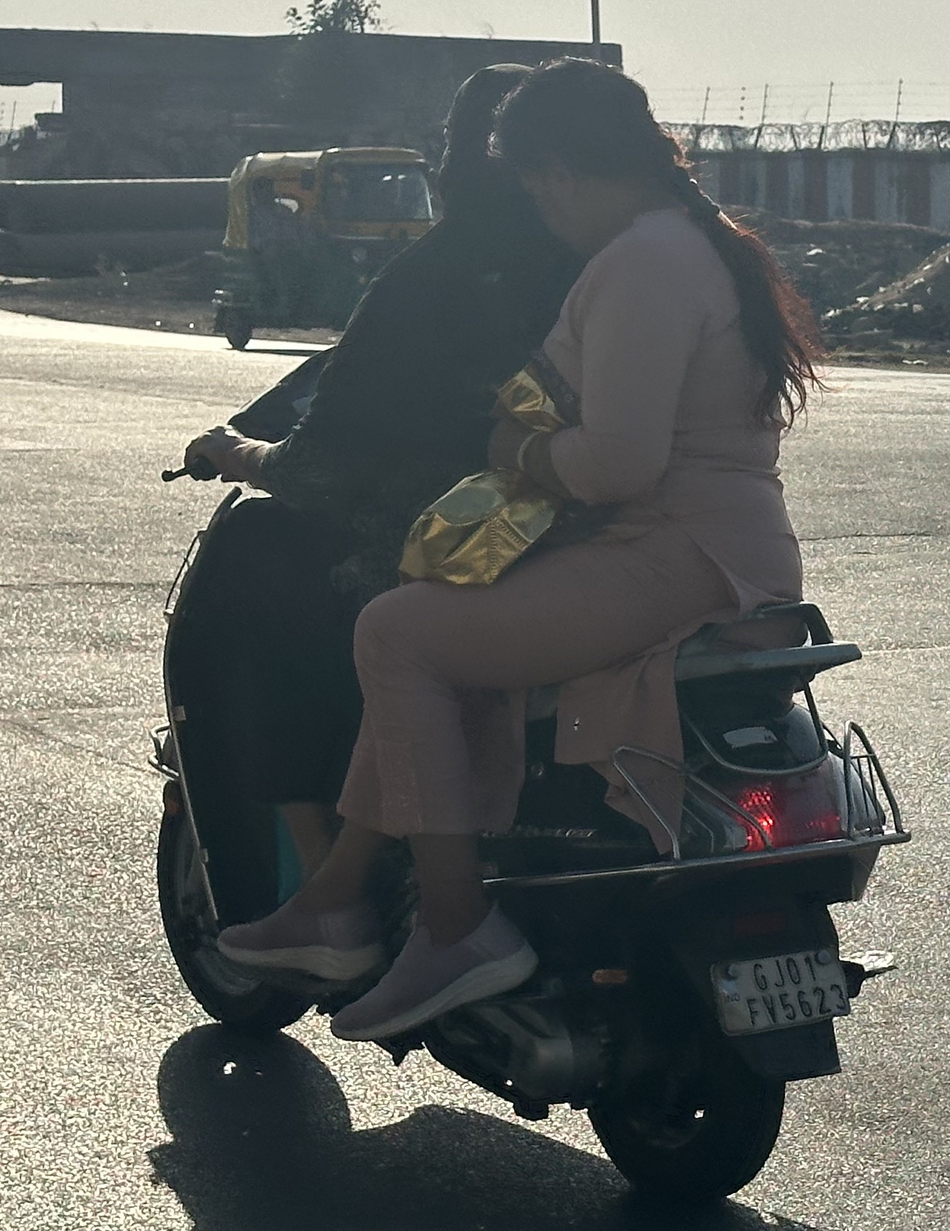BikeWithRider: (137, 52, 919, 1211)
NoHelmet: (493, 53, 706, 255), (416, 57, 595, 234)
